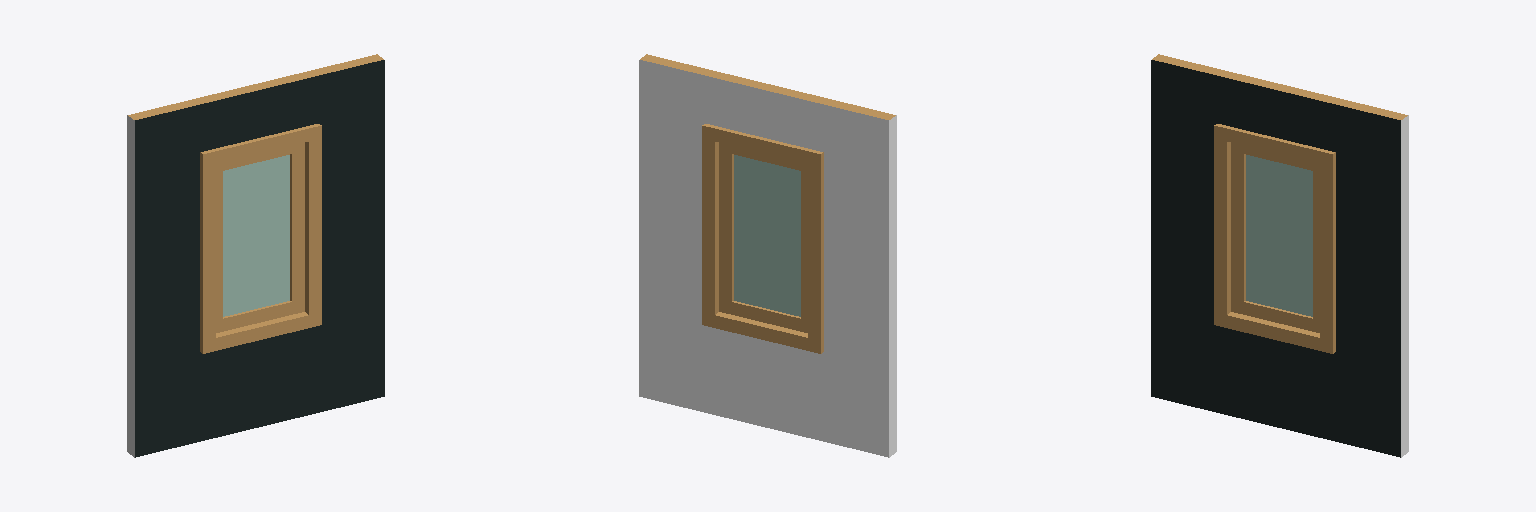
File: wallWindow.obj
The picture shows the model from 3 angles: view 1: azimuth 30°, elevation 25°; view 2: azimuth 150°, elevation 25°; view 3: azimuth 330°, elevation 25°; orthographic projection.
Parts seen in each view (by area): view 1: wallWindow, window; view 2: wallWindow, window; view 3: wallWindow, window.
Part boxes in pixels (x1,y1,x2,y2): wallWindow: (127,54,384,457); window: (216,143,304,332); wallWindow: (639,54,896,457); window: (719,143,807,332); wallWindow: (1151,54,1408,457); window: (1231,143,1319,332).
Size of the model in its own units: 10 by 12.9 by 0.891.